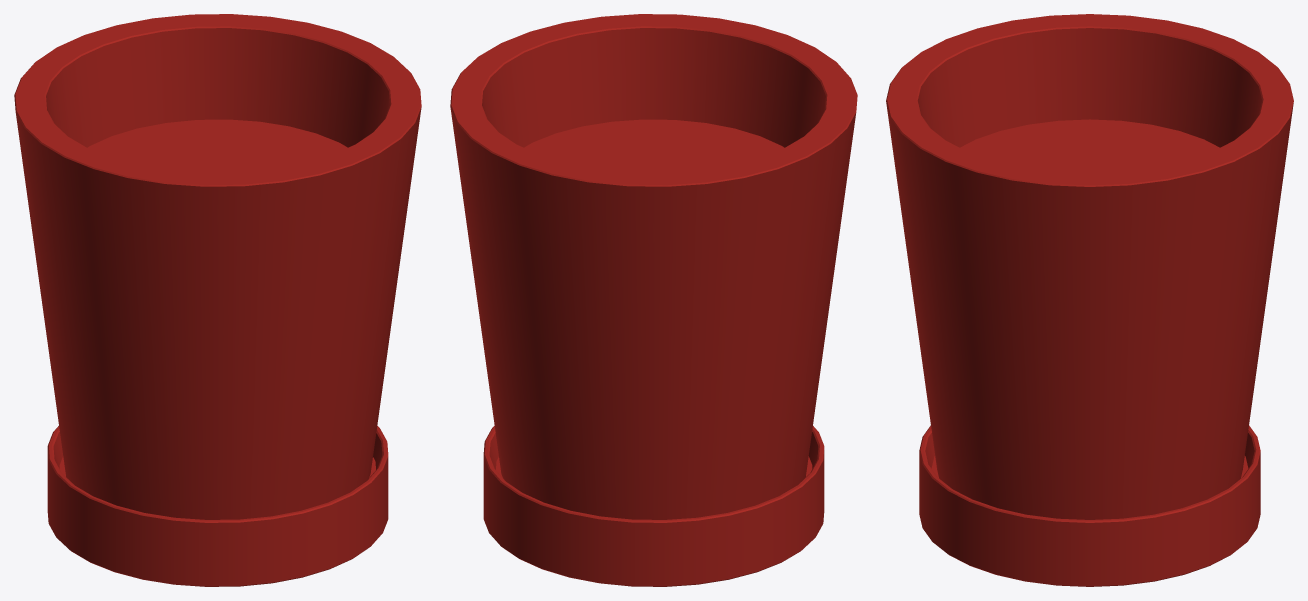
Rendered from donica_czerwona.fbx.
3 views of the same model, side by side, from view 1: azimuth 30°, elevation 25°; view 2: azimuth 150°, elevation 25°; view 3: azimuth 270°, elevation 25° (orthographic).
Parts seen in each view (by area): view 1: donica.004; view 2: donica.004; view 3: donica.004.
Part boxes in pixels (x1=…): donica.004: x1=14, y1=14, x2=421, y2=586; donica.004: x1=450, y1=14, x2=857, y2=586; donica.004: x1=886, y1=14, x2=1293, y2=586.
Bounding box in the file's own units: 141 × 162 × 141.
1 material, 1 textured.
